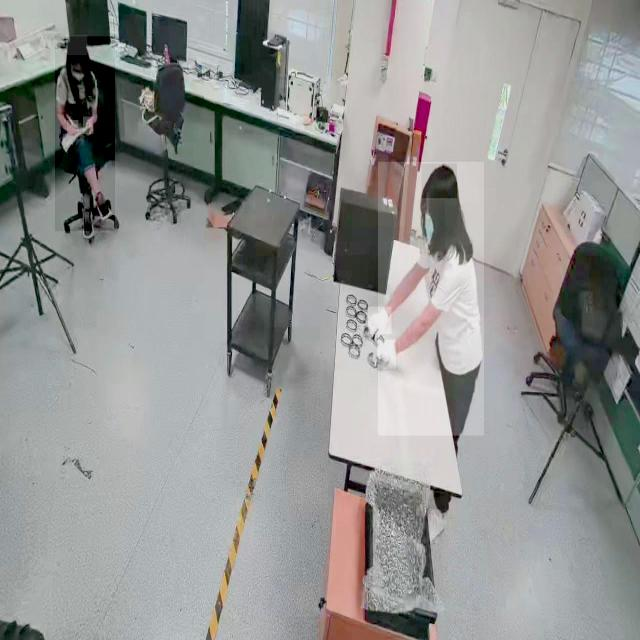face_mask: (423, 200, 445, 252)
hand_glove: (368, 307, 392, 335), (377, 340, 397, 370)
hand_noglove: (83, 117, 94, 135), (67, 120, 79, 135)
head_nohelmet: (422, 164, 458, 199), (66, 35, 88, 56)
person: (378, 162, 484, 436), (55, 36, 115, 232)
shoes: (79, 208, 98, 245), (93, 188, 113, 220)
